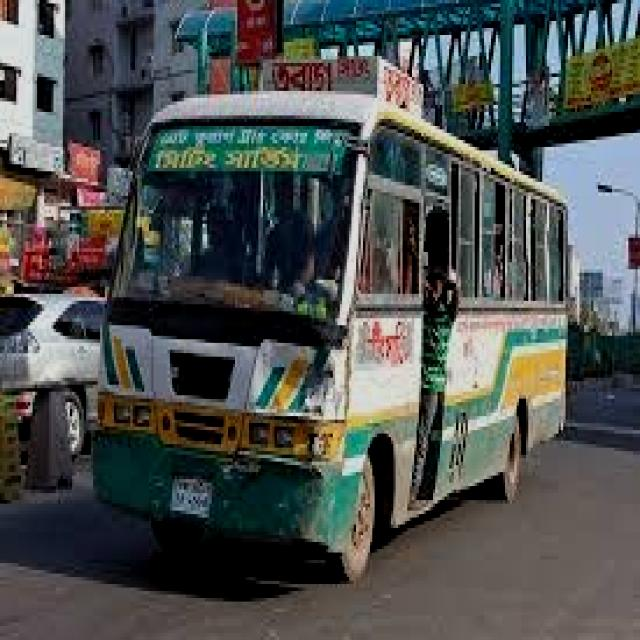bus: (86, 59, 596, 596)
